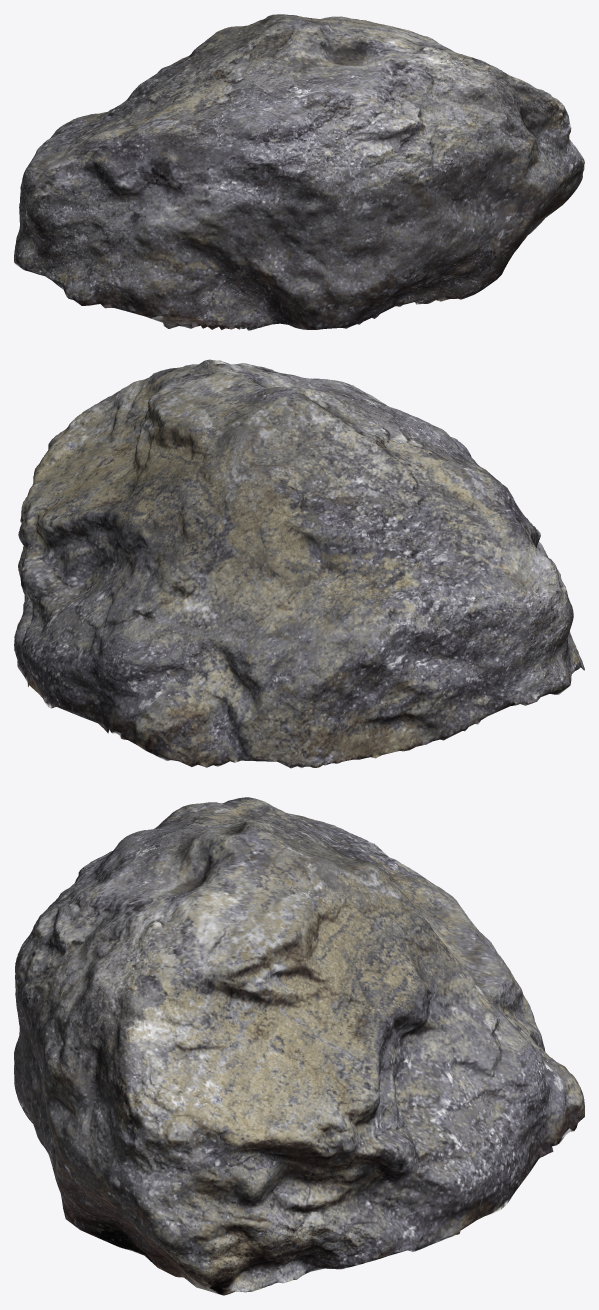
File: sparse2.glb
3 views of the same model, one above another, from view 1: azimuth 30°, elevation 25°; view 2: azimuth 150°, elevation 25°; view 3: azimuth 270°, elevation 25° (orthographic). The views are drawn at different scales.
Visible parts, largest first — view 1: Node; view 2: Node; view 3: Node.
Part boxes in pixels (bbox=[...]): Node: bbox=[14, 14, 584, 330]; Node: bbox=[14, 359, 584, 768]; Node: bbox=[14, 797, 584, 1295].
Size of the model in its own units: 4.57 by 2.1 by 3.4.
1 material, 1 textured.
